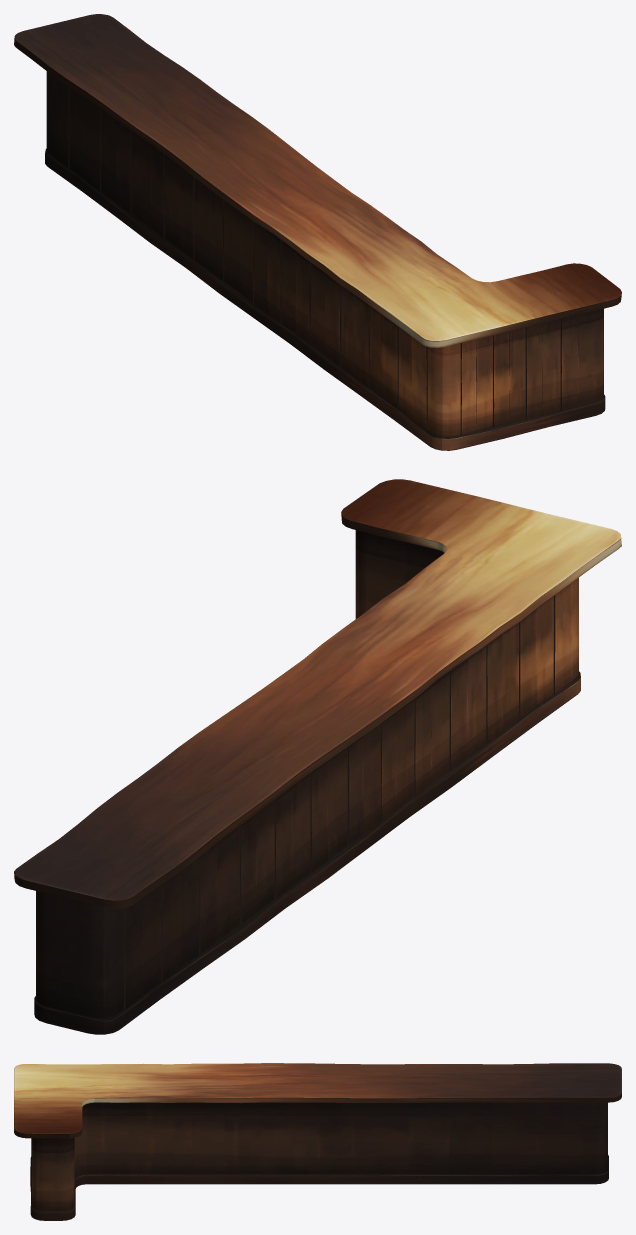
The model's file is escritorio2.obj.
The picture shows the model from 3 angles, top to bottom: view 1: azimuth 30°, elevation 25°; view 2: azimuth 150°, elevation 25°; view 3: azimuth 270°, elevation 25°; orthographic projection. The views are drawn at different scales.
Visible parts, largest first — view 1: counter03.002_meshId139; view 2: counter03.002_meshId139; view 3: counter03.002_meshId139.
Part boxes in pixels (x1,y1,x2,y2): counter03.002_meshId139: [14, 14, 621, 450]; counter03.002_meshId139: [14, 479, 621, 1034]; counter03.002_meshId139: [14, 1063, 621, 1220].
Size of the model in its own units: 6.01 by 3.55 by 21.84.
4 materials, 4 textured.
